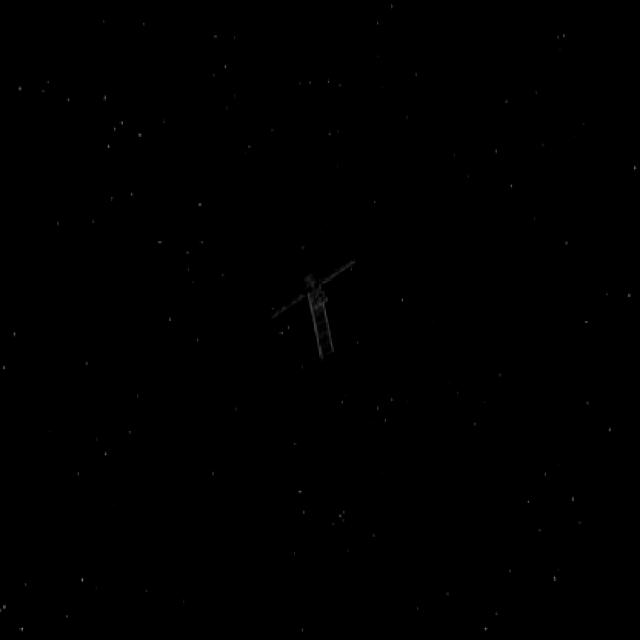satellite: (257, 240, 373, 386)
